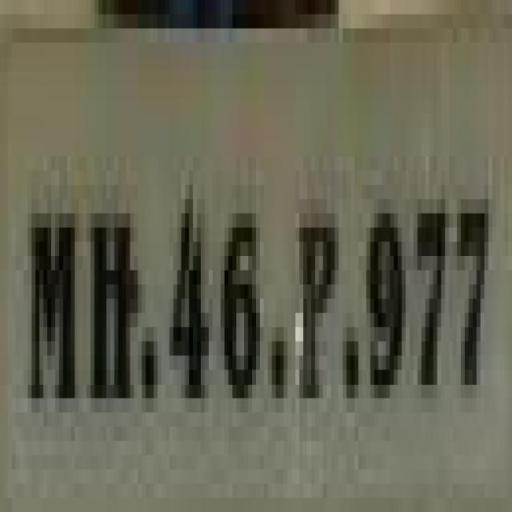number plate: (15, 42, 512, 498)
